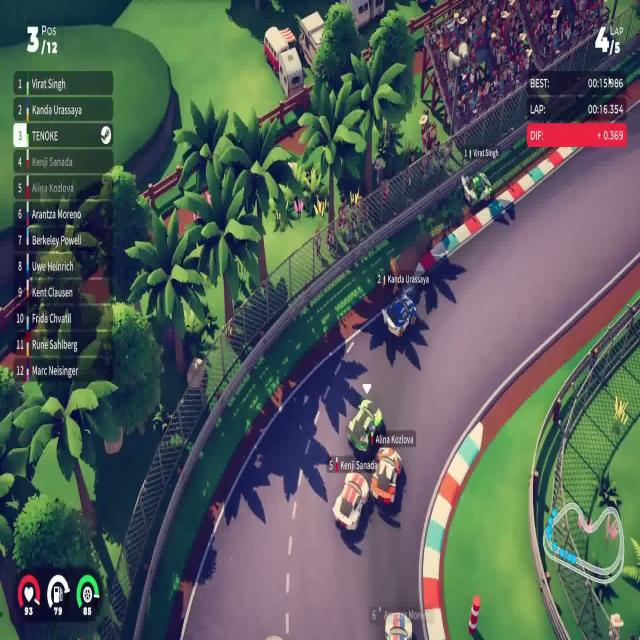car: (346, 397, 383, 459), (332, 471, 369, 532), (370, 446, 402, 507), (380, 293, 417, 338), (460, 169, 492, 207)
